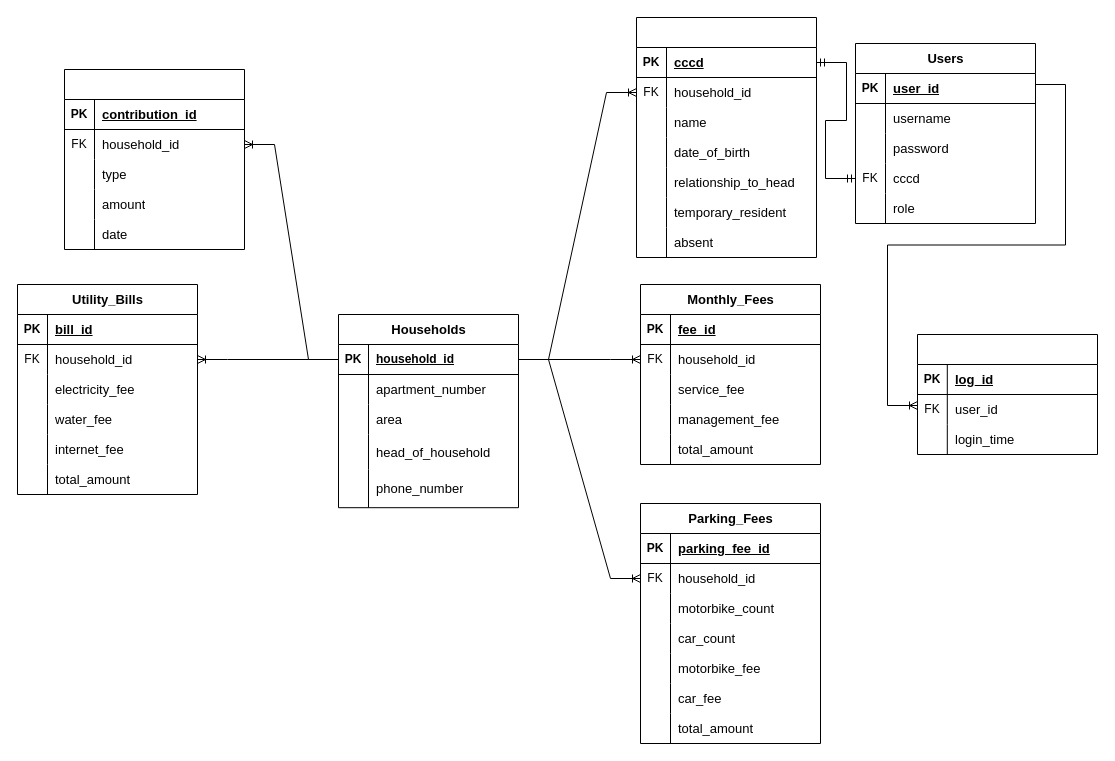
The diagram is 1115 pixels wide and 761 high, and some of its shapes have lost their labels. Here are the shapes that lost their labels. From the top down, the box of each, then its label:
(636, 16, 816, 258): Residents
(64, 68, 244, 250): Voluntary_Contributions
(916, 334, 1098, 454): Login_Logs
